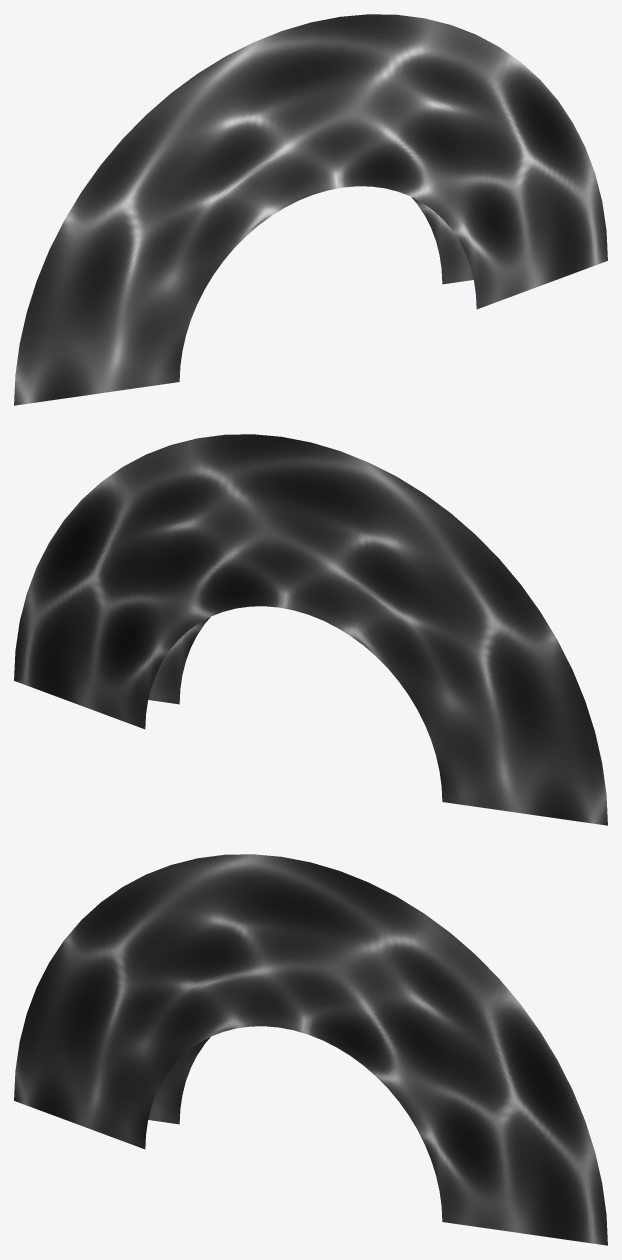
The model's file is eff_Slash01.fbx.
3 views of the same model, one above another, from view 1: azimuth 30°, elevation 25°; view 2: azimuth 150°, elevation 25°; view 3: azimuth 330°, elevation 25° (orthographic).
Parts seen in each view (by area): view 1: eff_Slash01_msh; view 2: eff_Slash01_msh; view 3: eff_Slash01_msh.
Part boxes in pixels (bbox=[...]): eff_Slash01_msh: bbox=[14, 14, 607, 405]; eff_Slash01_msh: bbox=[14, 434, 607, 825]; eff_Slash01_msh: bbox=[14, 854, 607, 1245].
Size of the model in its own units: 2 by 1 by 0.2.
